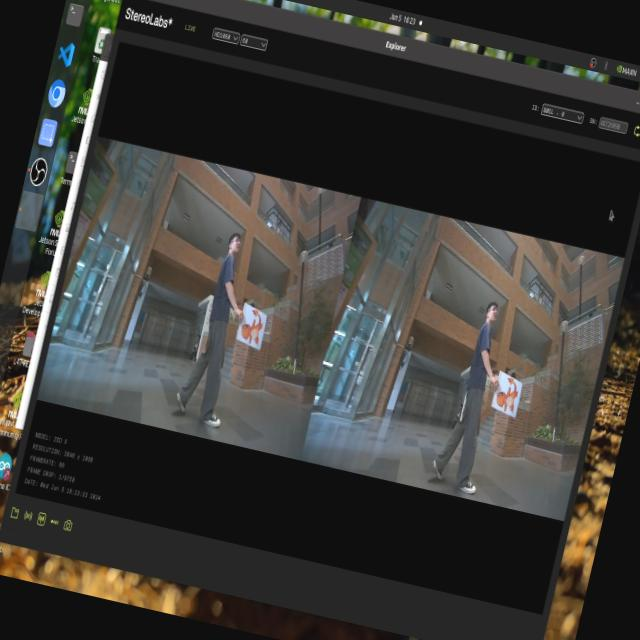red: (230, 307, 276, 358), (489, 368, 523, 408)
